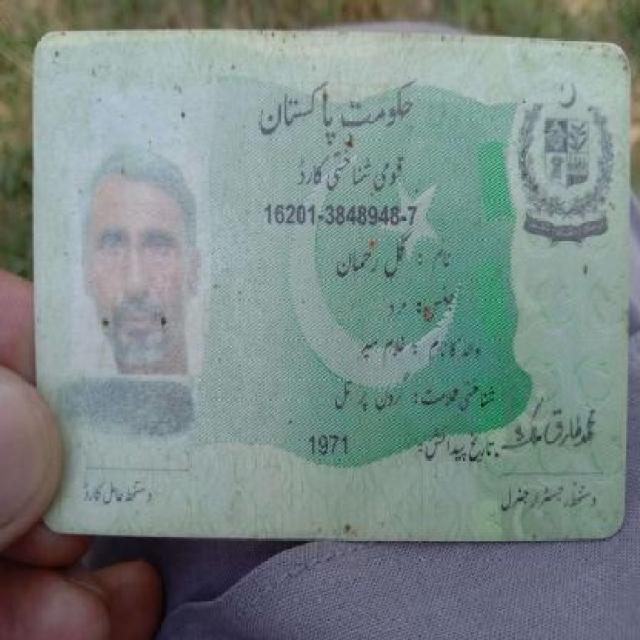Front: (25, 23, 628, 546)
